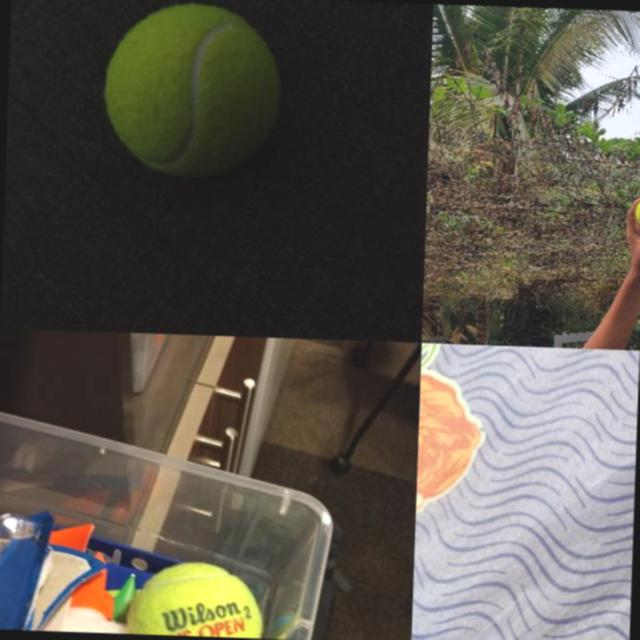tennis-ball: (101, 2, 283, 180), (124, 558, 266, 638), (633, 195, 640, 230)
